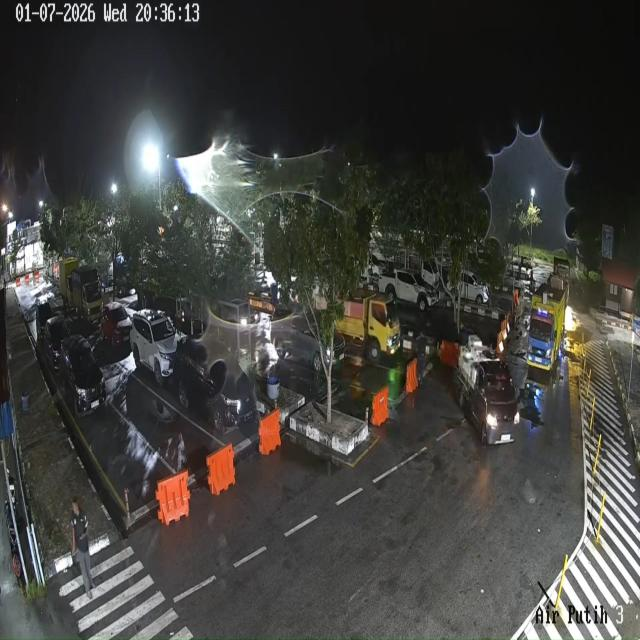Golongan IVA: (173, 333, 257, 432), (270, 314, 345, 374), (59, 335, 106, 418), (130, 309, 180, 386), (42, 316, 70, 370), (100, 301, 132, 347), (36, 302, 54, 340)
Golongan IVB: (455, 334, 520, 446), (378, 270, 439, 312)
Golongan VB: (314, 289, 400, 362), (527, 274, 567, 372), (59, 257, 102, 322)
